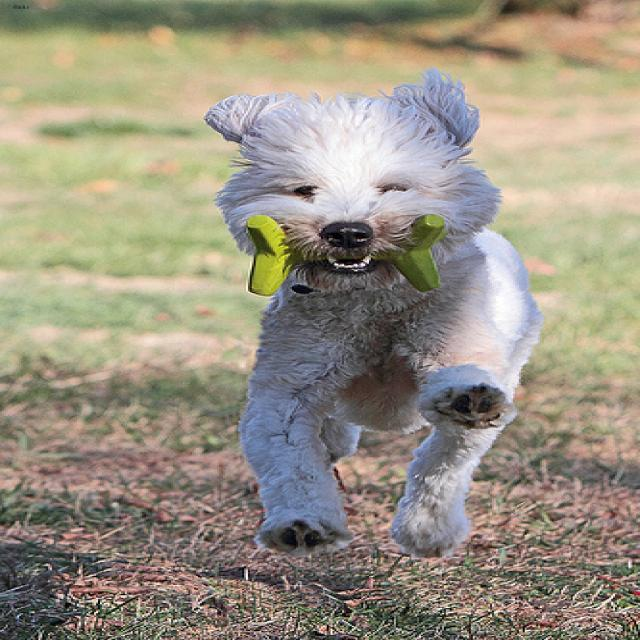dog-wheaten_terrier: (200, 65, 550, 566)
